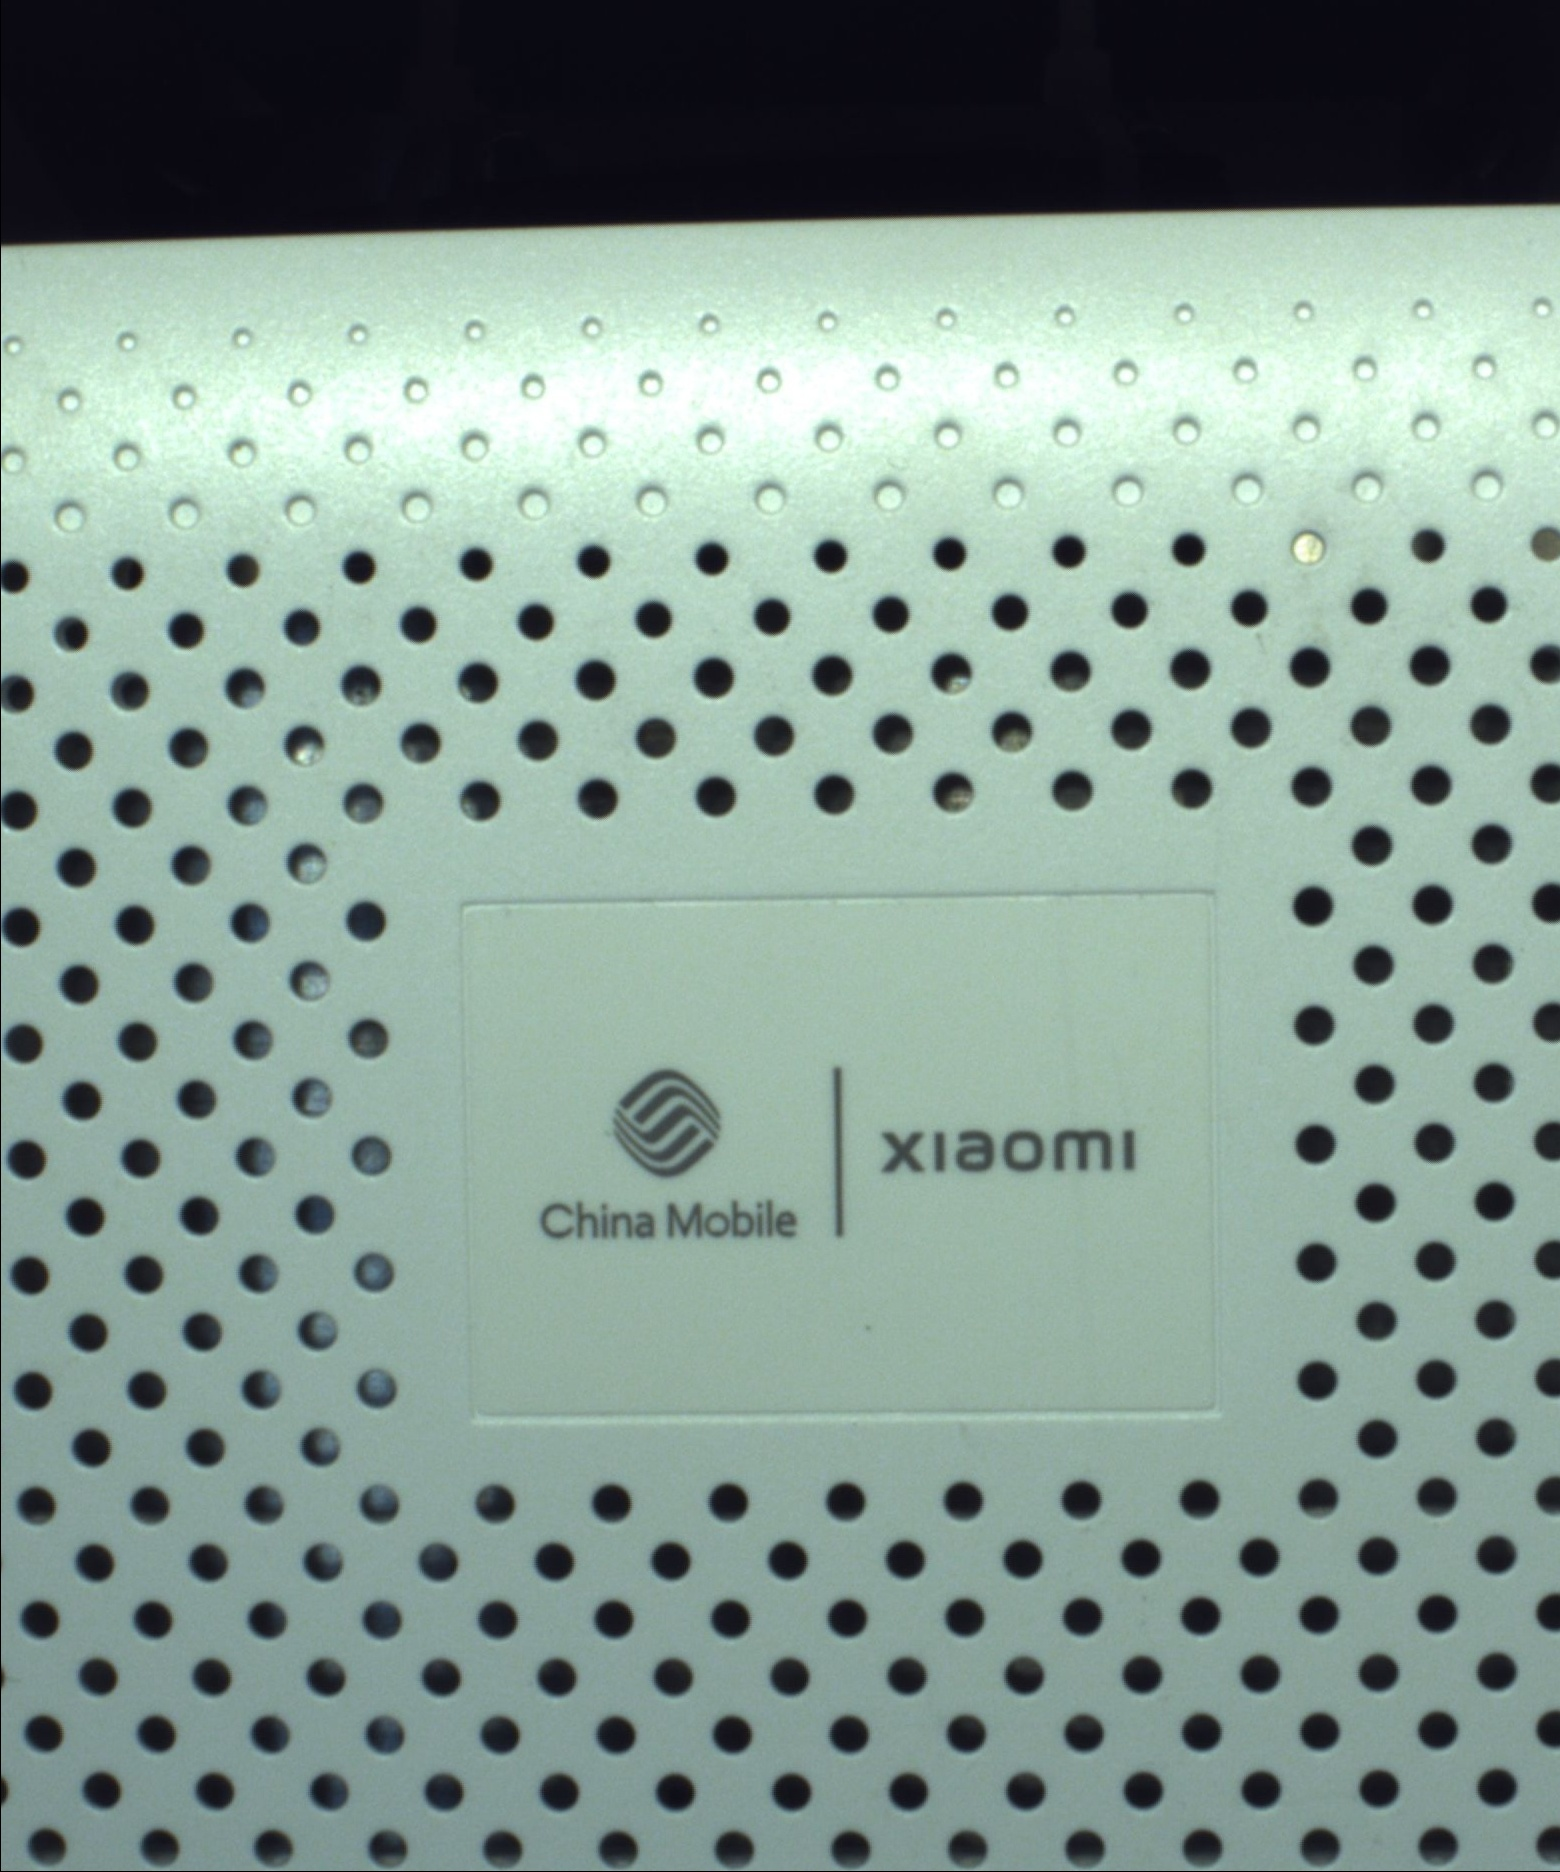MAD_ChinaMobile: (535, 1029, 1151, 1295)
